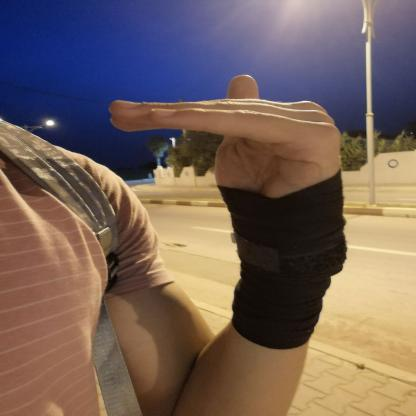KHAA: (97, 65, 367, 242)
